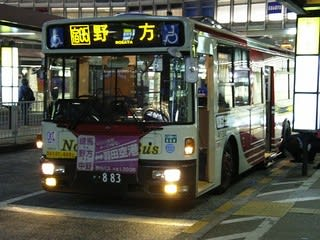destination: (64, 22, 158, 48)
